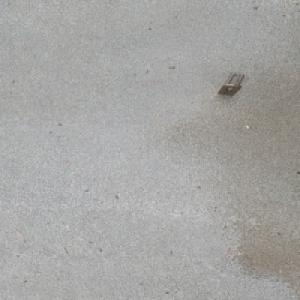MetalPart: (214, 72, 244, 96)
